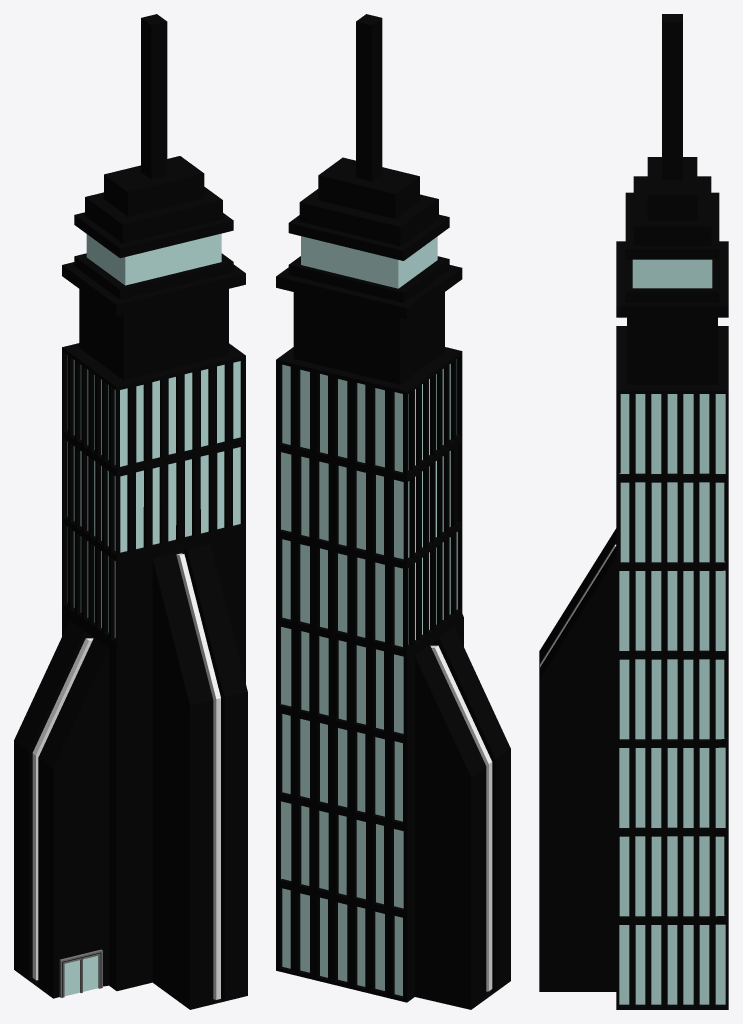
The model's file is SkyScraber1.fbx.
3 views of the same model, side by side, from view 1: azimuth 30°, elevation 25°; view 2: azimuth 150°, elevation 25°; view 3: azimuth 270°, elevation 25° (orthographic). The views are drawn at different scales.
Visible parts, largest first — view 1: SkyScraber1; view 2: SkyScraber1; view 3: SkyScraber1.
Part boxes in pixels (left/top/right/bottom): SkyScraber1: left=14, top=14, right=247, bottom=1009; SkyScraber1: left=276, top=14, right=510, bottom=1009; SkyScraber1: left=539, top=14, right=728, bottom=1009.
Size of the model in its own units: 6602 by 31903 by 5698.
